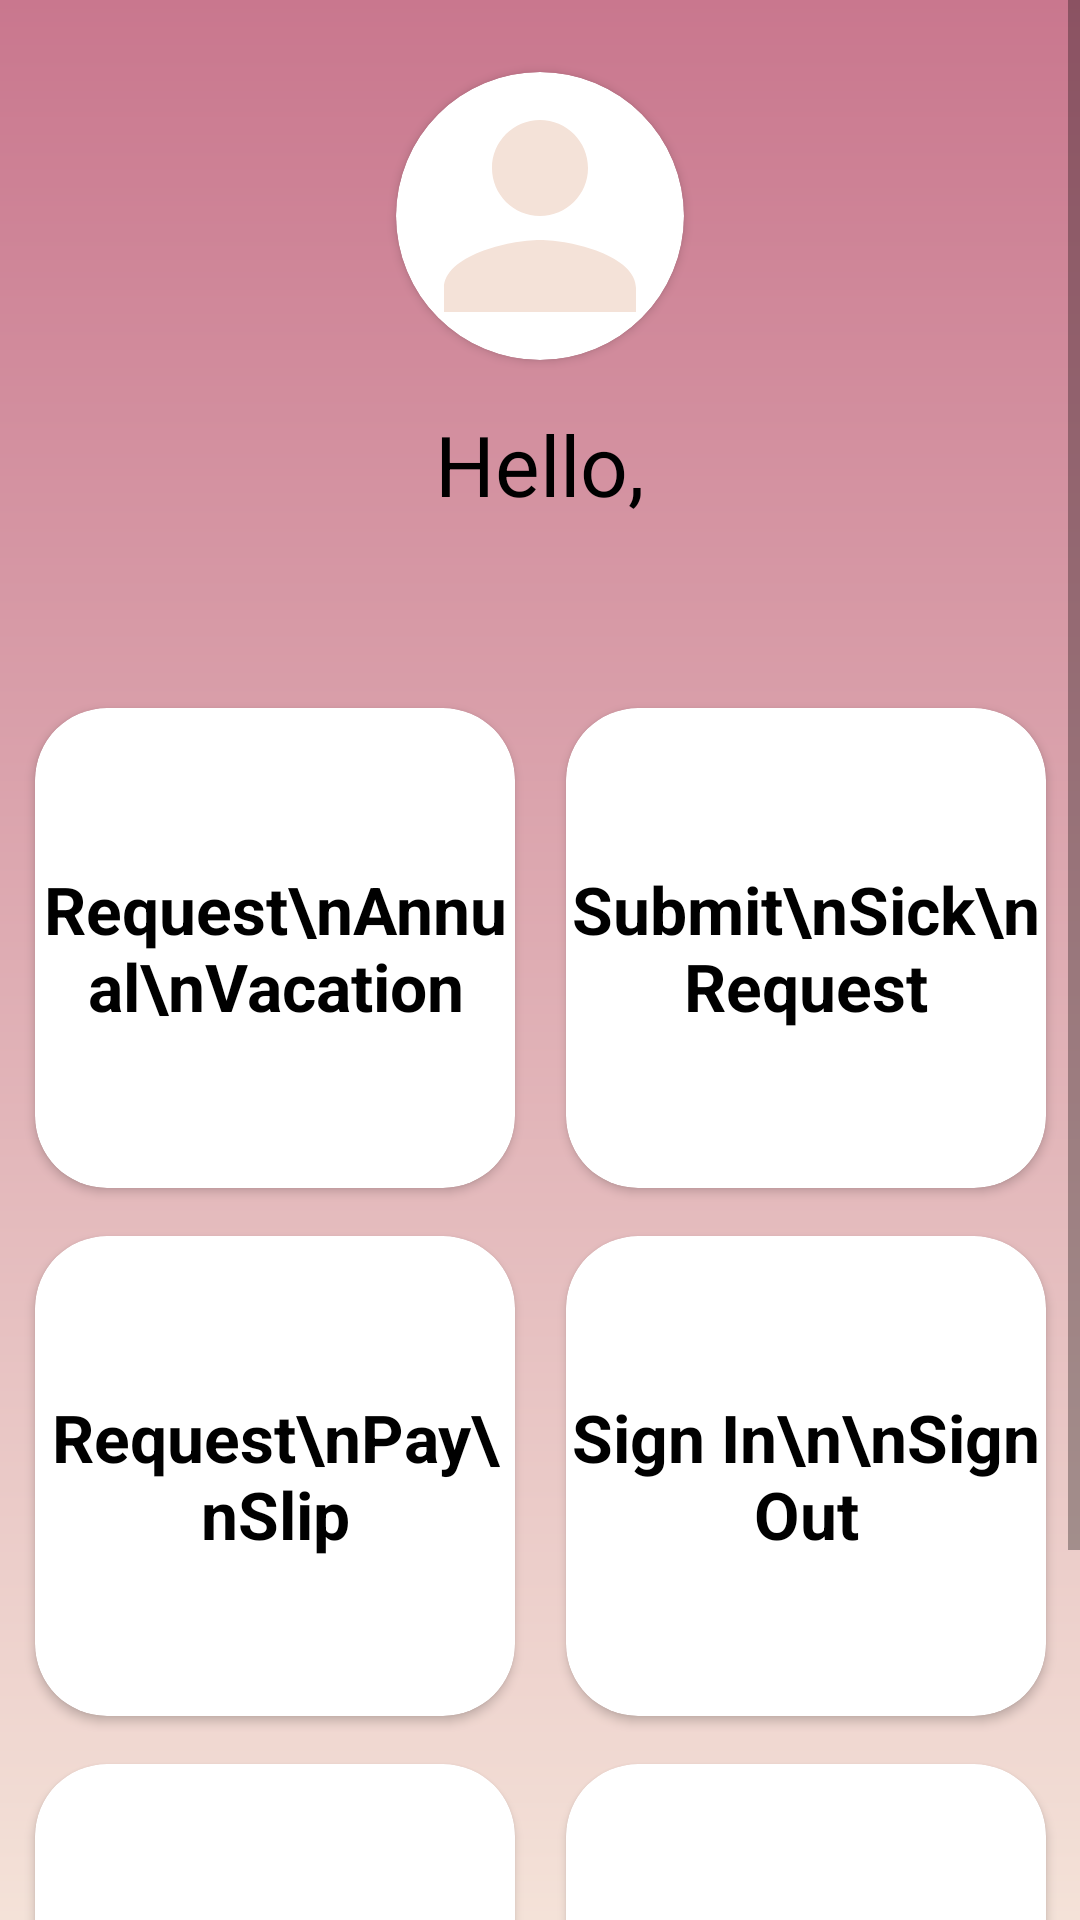

Icons on this 1080x1920 Android screen, each with the point to tap as (x,y):
person: (540,216)
